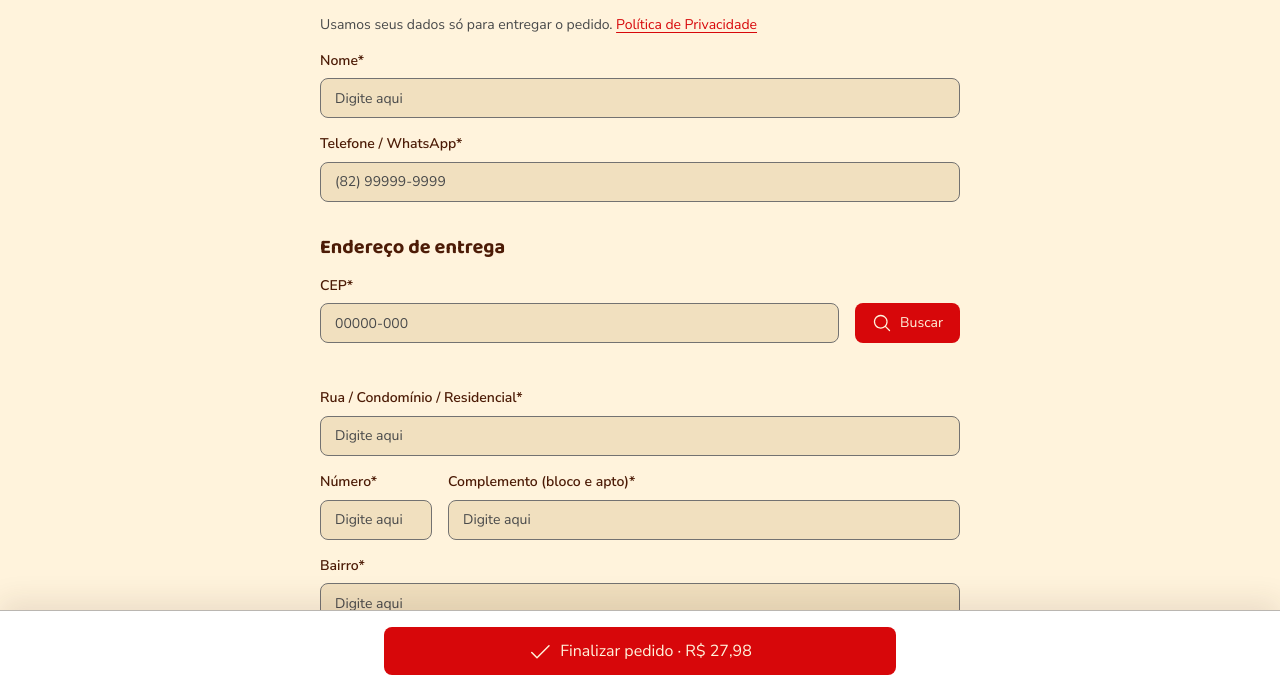
Test: taxa de entrega por CEP no Seu pedido › 'Estou no endereço' usa a localização do aparelho e corrige um CEP que o mapa errou
(page scrolled)
Type "57046000" into the field labelled "CEP*" at point(580, 323), box [333,304,826,342]
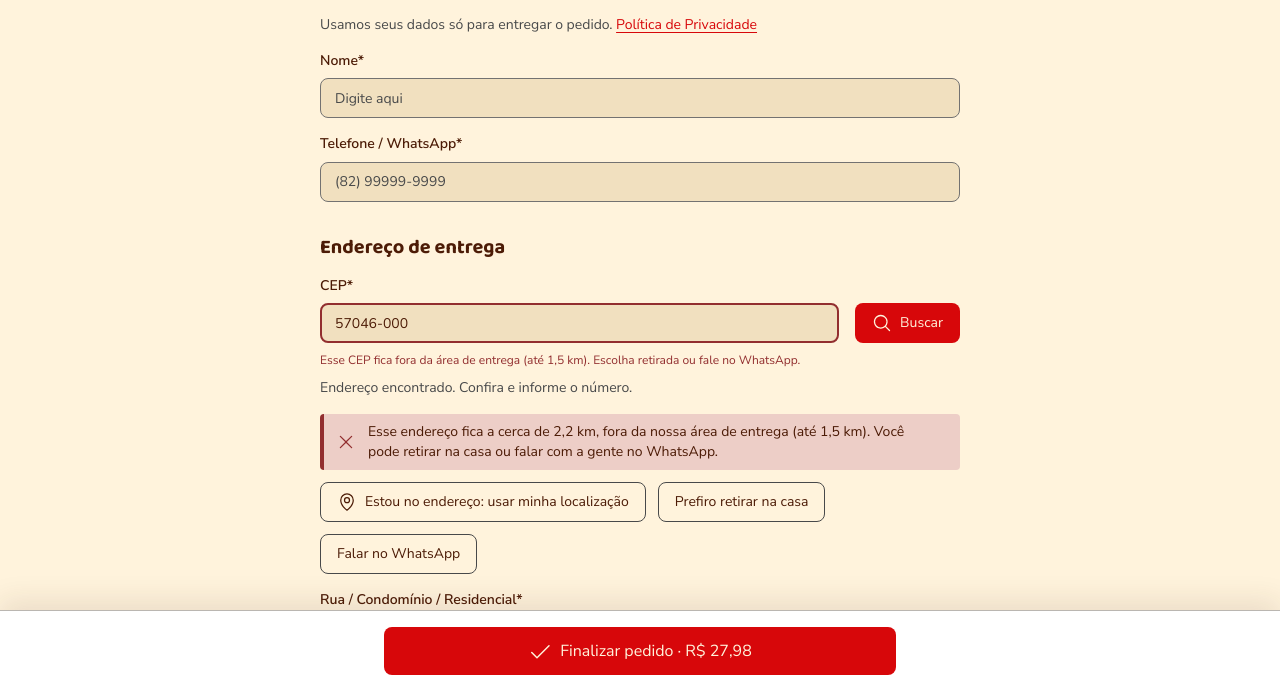
Now the message that starts with "Esse endereço fica a cerca de" is shown, box [320,414,960,470]
Click the button "Estou no endereço: usar minha localização" at point(483, 502), box [320,482,646,522]
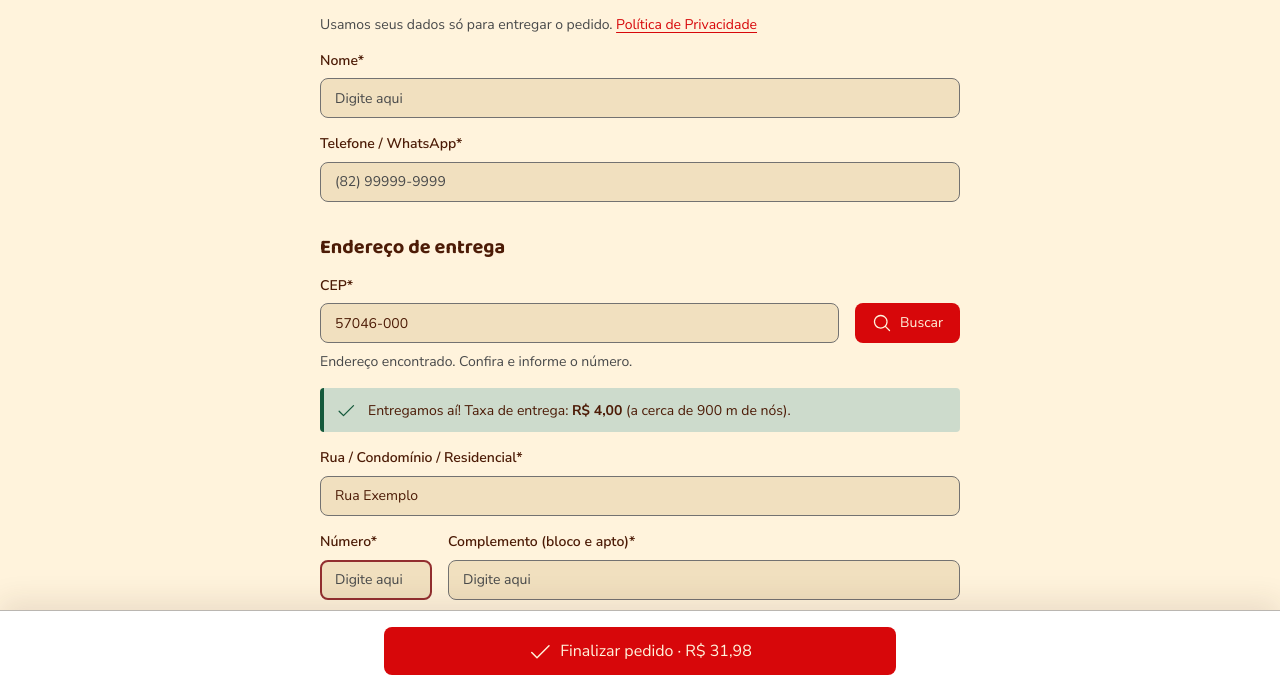
Now the text "Entregamos aí!" is shown, box [368,401,572,420]
